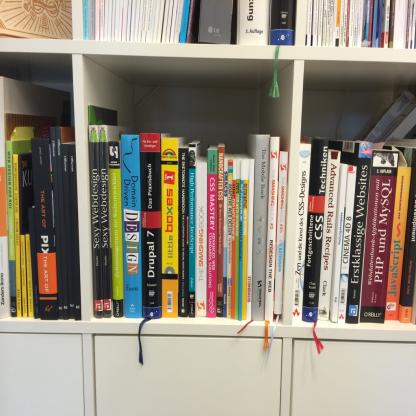book: (89, 107, 270, 360), (302, 135, 416, 327), (0, 78, 75, 316), (84, 0, 296, 42), (267, 148, 288, 360), (0, 0, 74, 41)
